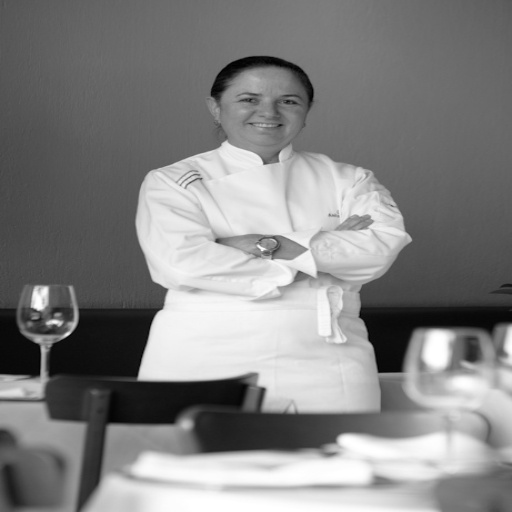hand: (214, 230, 267, 256), (336, 206, 373, 230)
